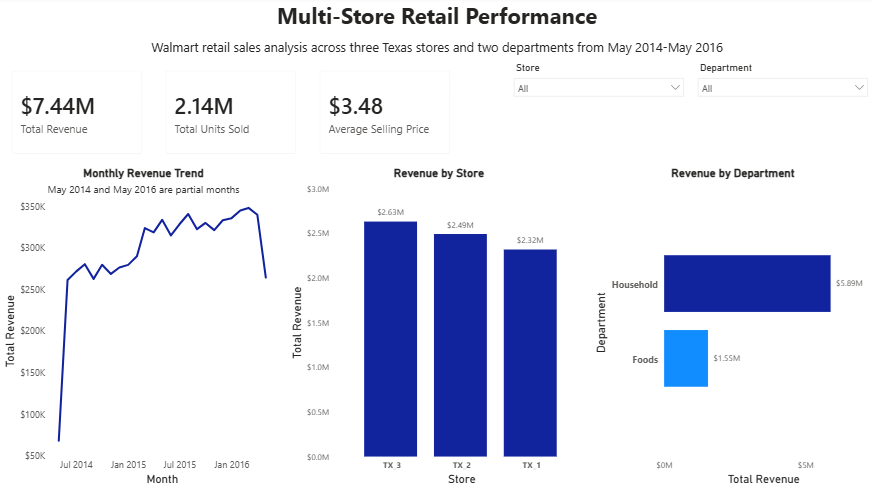

What the dashboard file says about the page in this screenshot:
{"tool":"powerbi","page":{"name":"Executive Overview","canvas":[1280,720],"ordinal":0},"visuals":[{"type":"cardVisual","fields":{"Data":["Daily Store Performance.Total Revenue"]},"box":[0,90.7,225.4,156.6],"z":0},{"type":"lineChart","title":"Monthly Revenue Trend","fields":{"Y":["Daily Store Performance.Total Revenue"],"Category":["Calendar.Month Start"]},"box":[0,247.3,420,471.2],"z":1000},{"type":"clusteredColumnChart","title":"Revenue by Store","fields":{"Category":["Daily Store Performance.store_id"],"Y":["Daily Store Performance.Total Revenue"]},"box":[420,247.3,444.9,471.2],"z":2000},{"type":"clusteredBarChart","title":"Revenue by Department","fields":{"Category":["Daily Store Performance.dept_id"],"Y":["Daily Store Performance.Total Revenue"]},"box":[864.9,247.3,415.6,471.2],"z":3000},{"type":"slicer","fields":{"Values":["Daily Store Performance.store_id"]},"box":[742,90.7,269.3,156.6],"z":4000},{"type":"slicer","fields":{"Values":["Daily Store Performance.dept_id"]},"box":[1011.2,90.7,269.3,156.6],"z":5000},{"type":"cardVisual","fields":{"Data":["Daily Store Performance.Total Units Sold"]},"box":[225.4,90.7,225.4,156.6],"z":6000},{"type":"cardVisual","fields":{"Data":["Daily Store Performance.Average Selling Price"]},"box":[450.7,90.7,225.4,156.6],"z":7000},{"type":"textbox","box":[326.8,0,626.3,55.6],"z":8000},{"type":"textbox","box":[198,55.6,883.9,35.1],"z":9000}]}

Visuals, with their boxes in screenshot pixels (x1, y1, x2, y2), scaled from the page's 1280x720 canvas onto the 873x489 screenshot:
cardVisual - Daily Store Performance.Total Revenue: l=0, t=62, r=154, b=168
"Monthly Revenue Trend" lineChart: l=0, t=168, r=286, b=488
"Revenue by Store" clusteredColumnChart: l=286, t=168, r=590, b=488
"Revenue by Department" clusteredBarChart: l=590, t=168, r=872, b=488
slicer - Daily Store Performance.store_id: l=506, t=62, r=690, b=168
slicer - Daily Store Performance.dept_id: l=690, t=62, r=872, b=168
cardVisual - Daily Store Performance.Total Units Sold: l=154, t=62, r=307, b=168
cardVisual - Daily Store Performance.Average Selling Price: l=307, t=62, r=461, b=168
textbox: l=223, t=0, r=650, b=38
textbox: l=135, t=38, r=738, b=62
